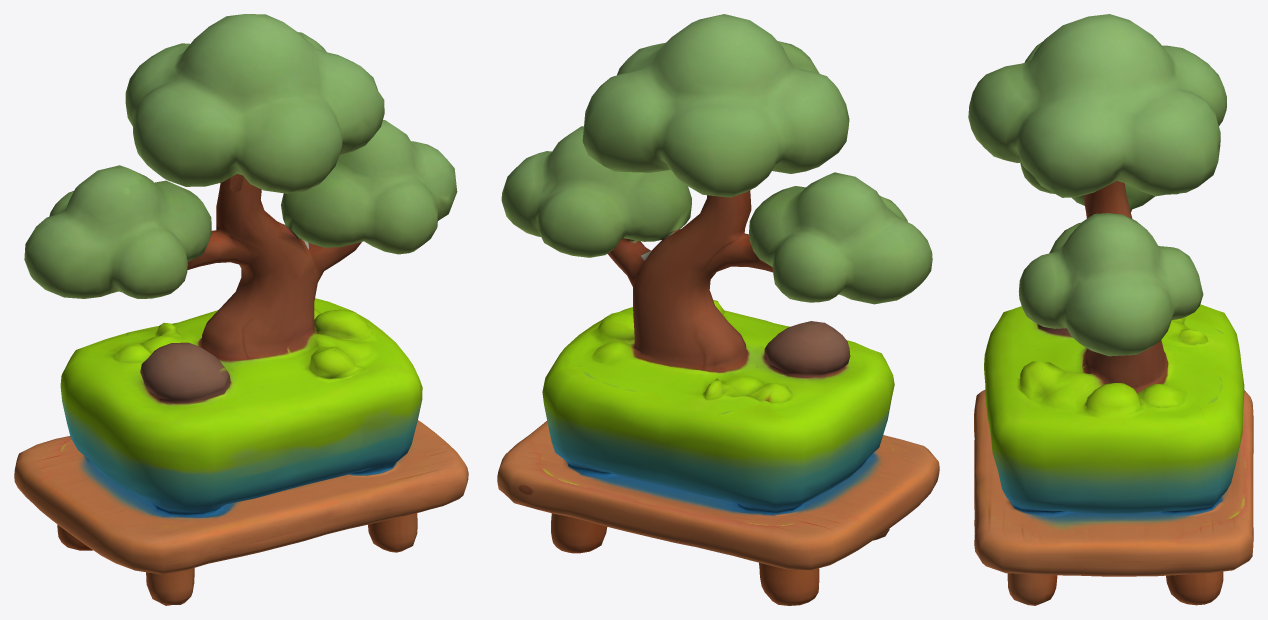
The picture shows the model from 3 angles, left to right: view 1: azimuth 30°, elevation 25°; view 2: azimuth 150°, elevation 25°; view 3: azimuth 270°, elevation 25°; orthographic projection. The views are drawn at different scales.
Parts seen in each view (by area): view 1: bonsai; view 2: bonsai; view 3: bonsai.
Part boxes in pixels (<box>): bonsai: <box>14,14,468,605</box>; bonsai: <box>497,14,939,605</box>; bonsai: <box>968,14,1253,605</box>.
Bounding box in the file's own units: 0.752 × 0.9 × 0.4416.
Materials: 1 (1 with a texture image).
